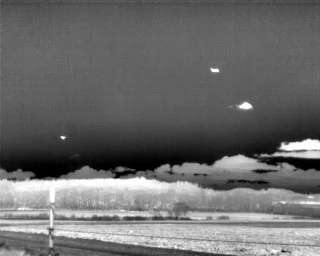DRONE: (208, 64, 222, 76)
